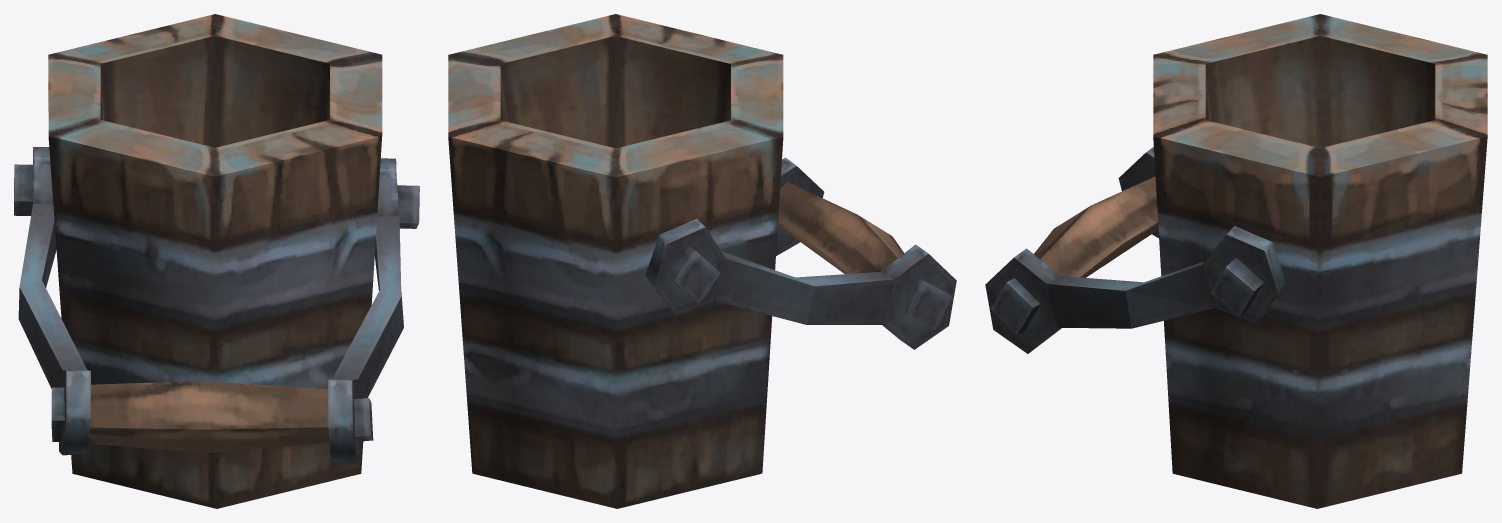
The model's file is mine_bucket01.fbx.
3 views of the same model, side by side, from view 1: azimuth 30°, elevation 25°; view 2: azimuth 150°, elevation 25°; view 3: azimuth 270°, elevation 25° (orthographic).
Visible parts, largest first — view 1: mine_bucket01; view 2: mine_bucket01; view 3: mine_bucket01.
Boxes of the visible parts, x1=… form: mine_bucket01: x1=14, y1=14, x2=419, y2=508; mine_bucket01: x1=448, y1=14, x2=956, y2=508; mine_bucket01: x1=985, y1=14, x2=1487, y2=508.
Bounding box in the file's own units: 0.9605 × 0.7581 × 0.9966.
